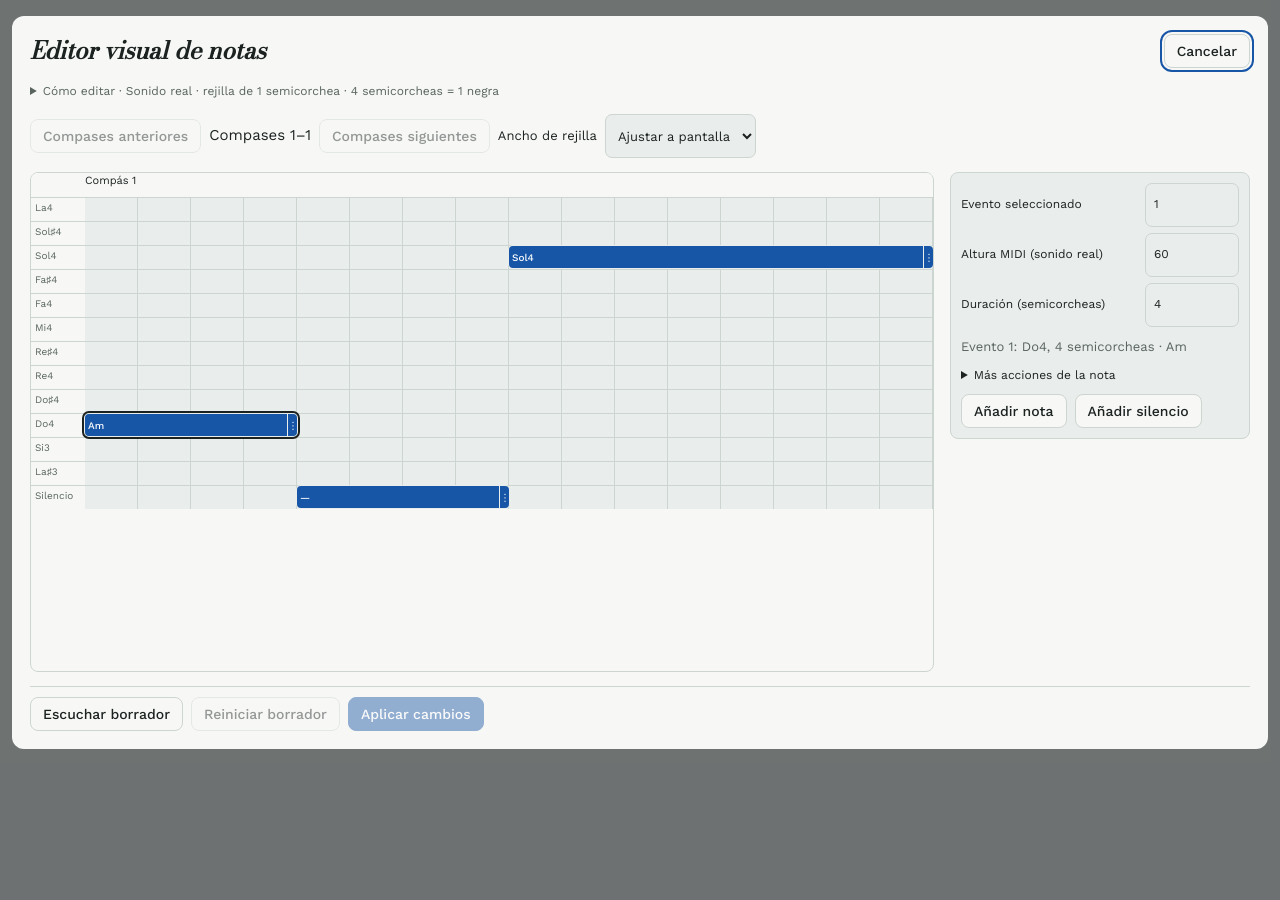
editor visual: aplicar y descartar › un guardado automático no invalida el borrador
Replace the text in the number field labelled "Altura MIDI (sonido real)" with "65" at (1192,255), box [1145, 233, 1239, 277]
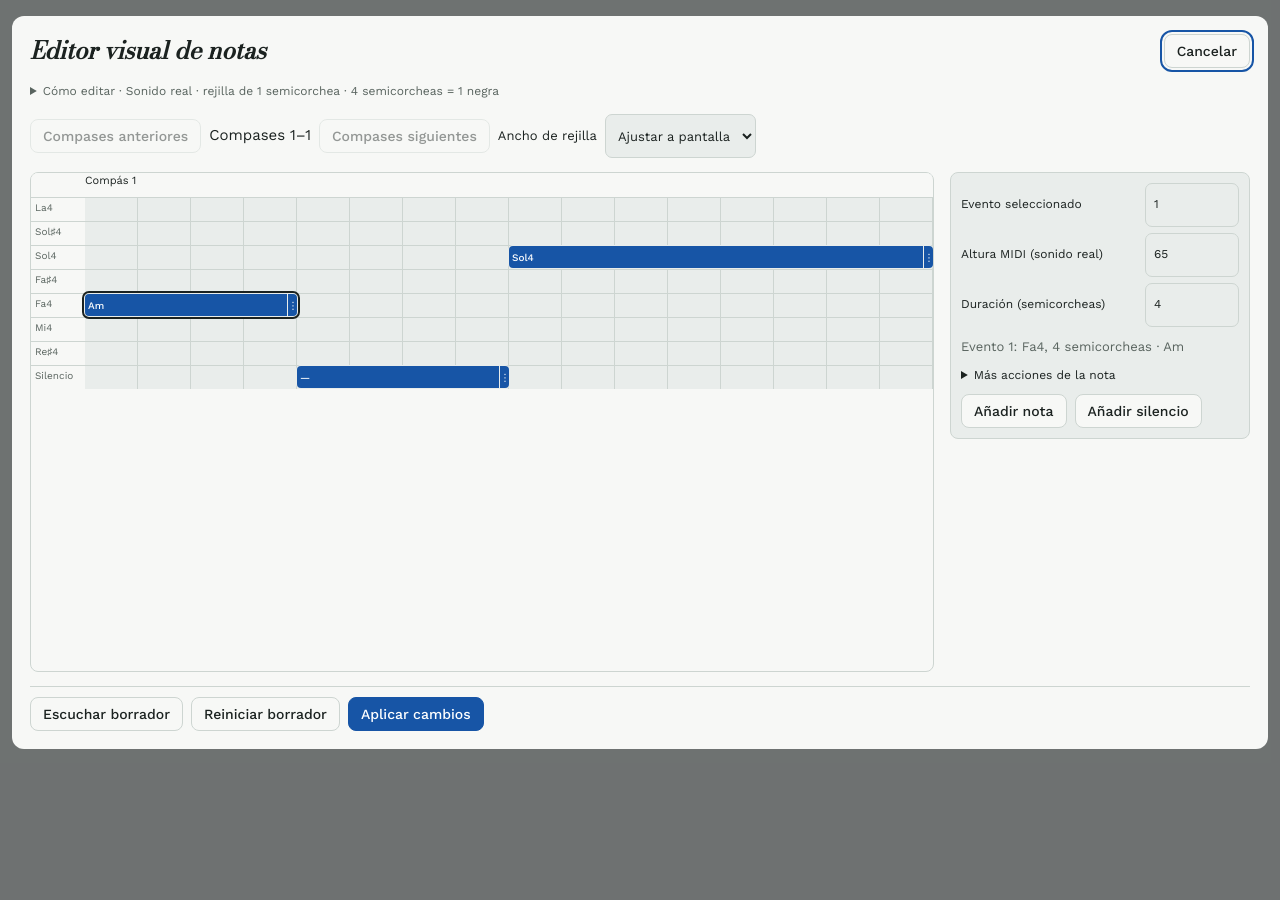
Now the button "Aplicar cambios" is enabled, box [348, 697, 484, 731]
